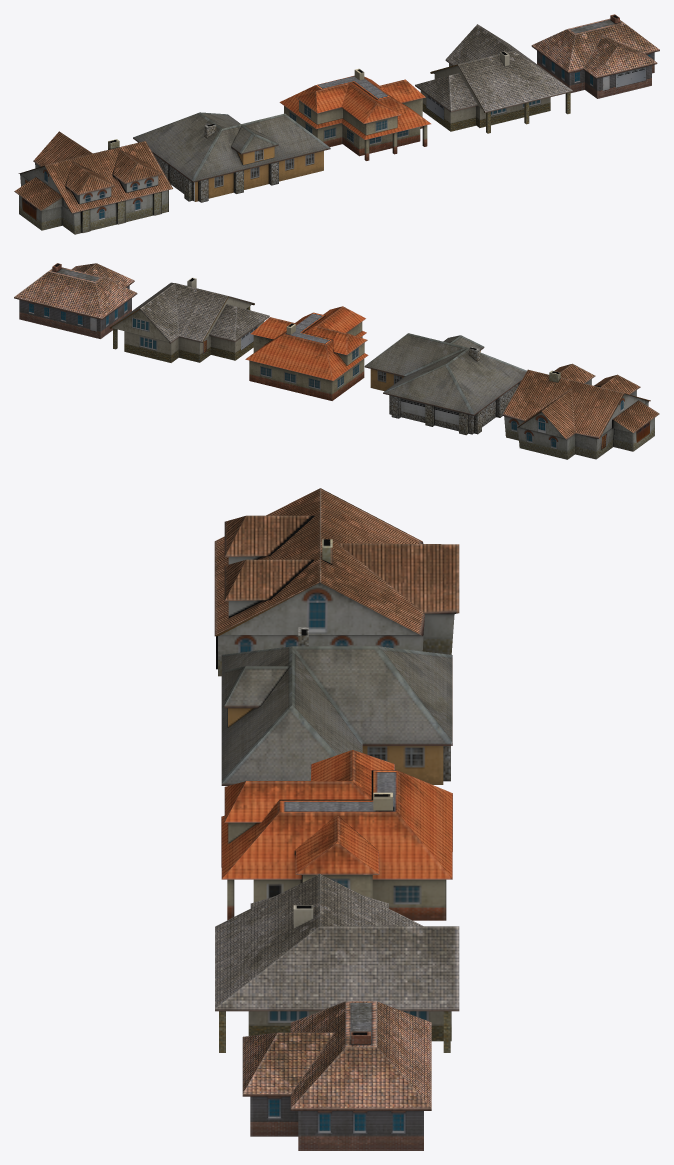
The model's file is villas.fbx.
The picture shows the model from 3 angles, top to bottom: view 1: azimuth 30°, elevation 25°; view 2: azimuth 150°, elevation 25°; view 3: azimuth 270°, elevation 25°; orthographic projection. The views are drawn at different scales.
Visible parts, largest first — view 1: HOUSE_01_HOUSE_01_0, HOUSE_05_HOUSE_05_0, HOUSE_03_HOUSE_03_0, HOUSE_02_HOUSE_02_0, HOUSE_04_HOUSE_04_0; view 2: HOUSE_01_HOUSE_01_0, HOUSE_05_HOUSE_05_0, HOUSE_03_HOUSE_03_0, HOUSE_02_HOUSE_02_0, HOUSE_04_HOUSE_04_0; view 3: HOUSE_05_HOUSE_05_0, HOUSE_01_HOUSE_01_0, HOUSE_02_HOUSE_02_0, HOUSE_03_HOUSE_03_0, HOUSE_04_HOUSE_04_0.
Boxes of the visible parts, x1=… form: HOUSE_01_HOUSE_01_0: x1=133, y1=112, x2=330, y2=202; HOUSE_05_HOUSE_05_0: x1=14, y1=131, x2=172, y2=234; HOUSE_03_HOUSE_03_0: x1=415, y1=24, x2=572, y2=133; HOUSE_02_HOUSE_02_0: x1=279, y1=68, x2=430, y2=160; HOUSE_04_HOUSE_04_0: x1=531, y1=14, x2=659, y2=98; HOUSE_01_HOUSE_01_0: x1=364, y1=333, x2=526, y2=435; HOUSE_05_HOUSE_05_0: x1=502, y1=363, x2=659, y2=459; HOUSE_03_HOUSE_03_0: x1=109, y1=277, x2=269, y2=362; HOUSE_02_HOUSE_02_0: x1=245, y1=306, x2=368, y2=400; HOUSE_04_HOUSE_04_0: x1=14, y1=263, x2=137, y2=338; HOUSE_05_HOUSE_05_0: x1=214, y1=488, x2=459, y2=676; HOUSE_01_HOUSE_01_0: x1=221, y1=627, x2=452, y2=785; HOUSE_02_HOUSE_02_0: x1=221, y1=750, x2=452, y2=920; HOUSE_03_HOUSE_03_0: x1=215, y1=874, x2=459, y2=1052; HOUSE_04_HOUSE_04_0: x1=242, y1=1001, x2=431, y2=1150.
Size of the model in its own units: 9956 by 857 by 1752.
